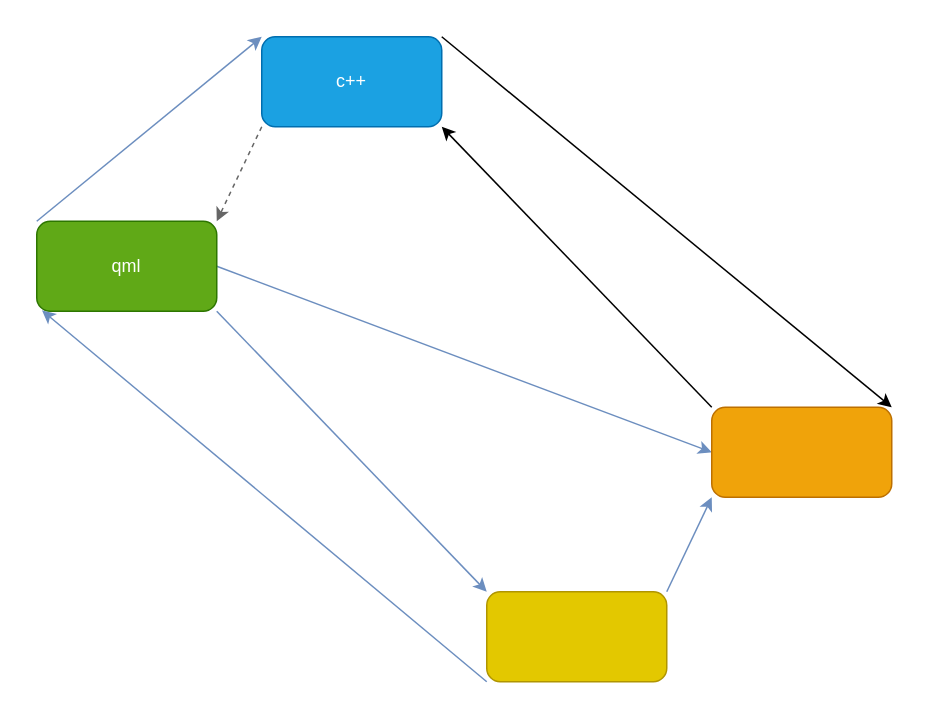
The diagram is 930 pixels wide and 720 high, and some of its shapes have lost their labels. Here are the shapes that lost their labels. From the top down, the centre of each, then its label:
At pixel 801 451: "JSON".
At pixel 576 636: "js".
